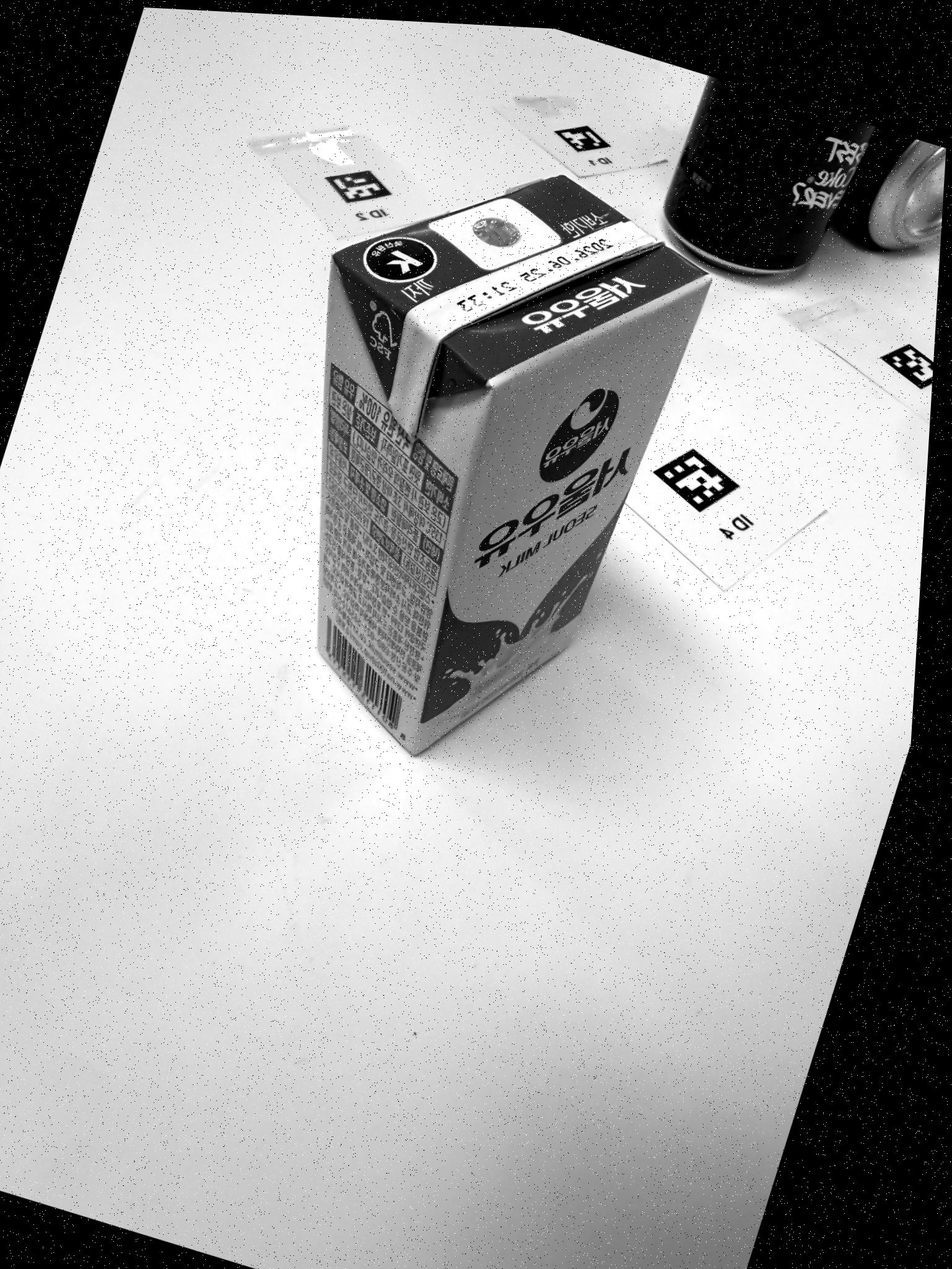milk_green: (317, 177, 710, 754)
